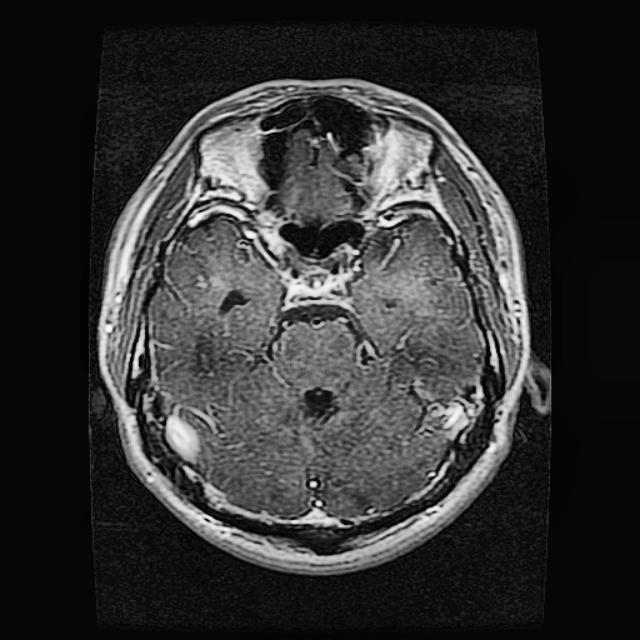Glioma: (214, 288, 247, 317)
